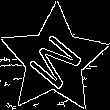M_SE: (21, 26, 87, 93)
